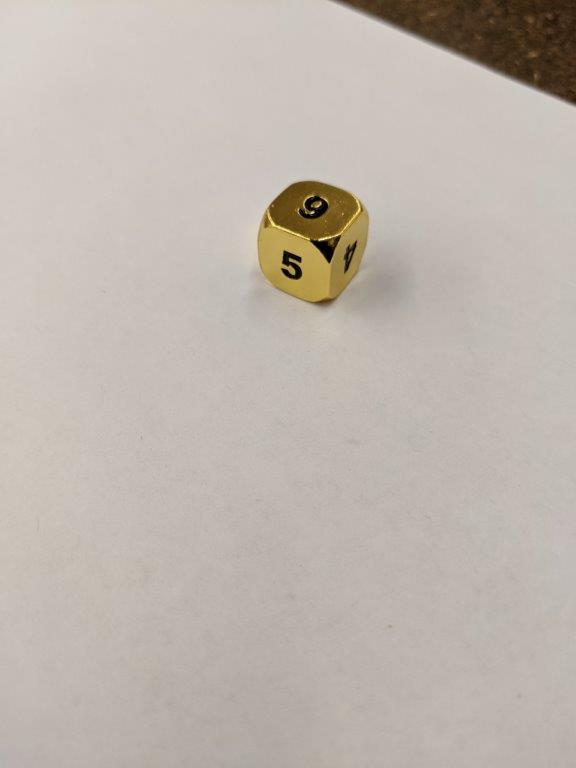d6-6: (257, 181, 374, 306)
